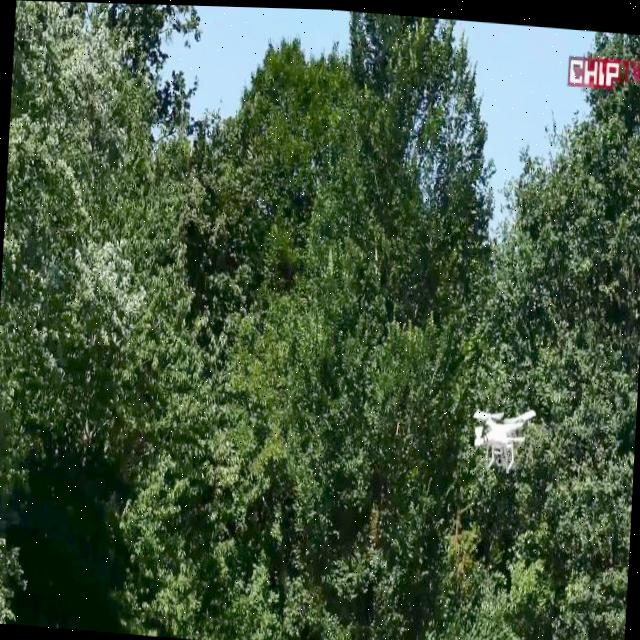drone: (471, 398, 538, 471)
